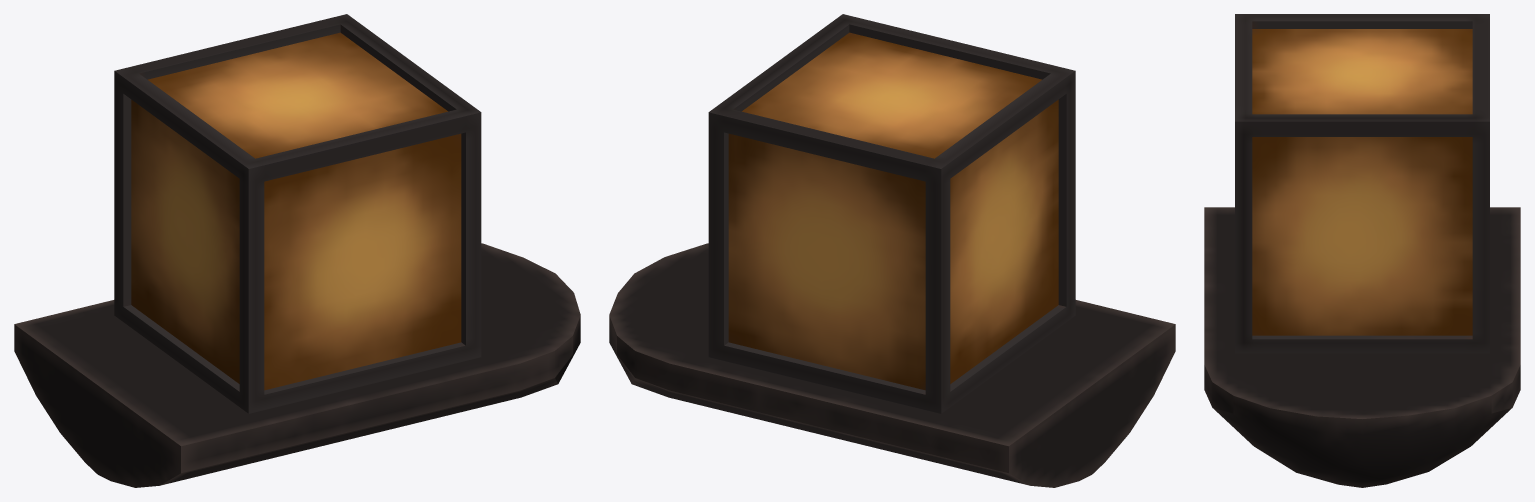
The model's file is SM_WaterLamp_V2.fbx.
3 views of the same model, side by side, from view 1: azimuth 30°, elevation 25°; view 2: azimuth 150°, elevation 25°; view 3: azimuth 270°, elevation 25° (orthographic). The views are drawn at different scales.
Parts seen in each view (by area): view 1: SM_Lamp, SM_BoatLamp; view 2: SM_Lamp, SM_BoatLamp; view 3: SM_Lamp, SM_BoatLamp.
Part boxes in pixels (<box>): SM_Lamp: <box>114,14,481,413</box>; SM_BoatLamp: <box>14,243,580,487</box>; SM_Lamp: <box>708,14,1075,413</box>; SM_BoatLamp: <box>609,243,1175,487</box>; SM_Lamp: <box>1235,14,1489,353</box>; SM_BoatLamp: <box>1204,207,1520,487</box>.
Size of the model in its own units: 1.44 by 1 by 0.9081.
